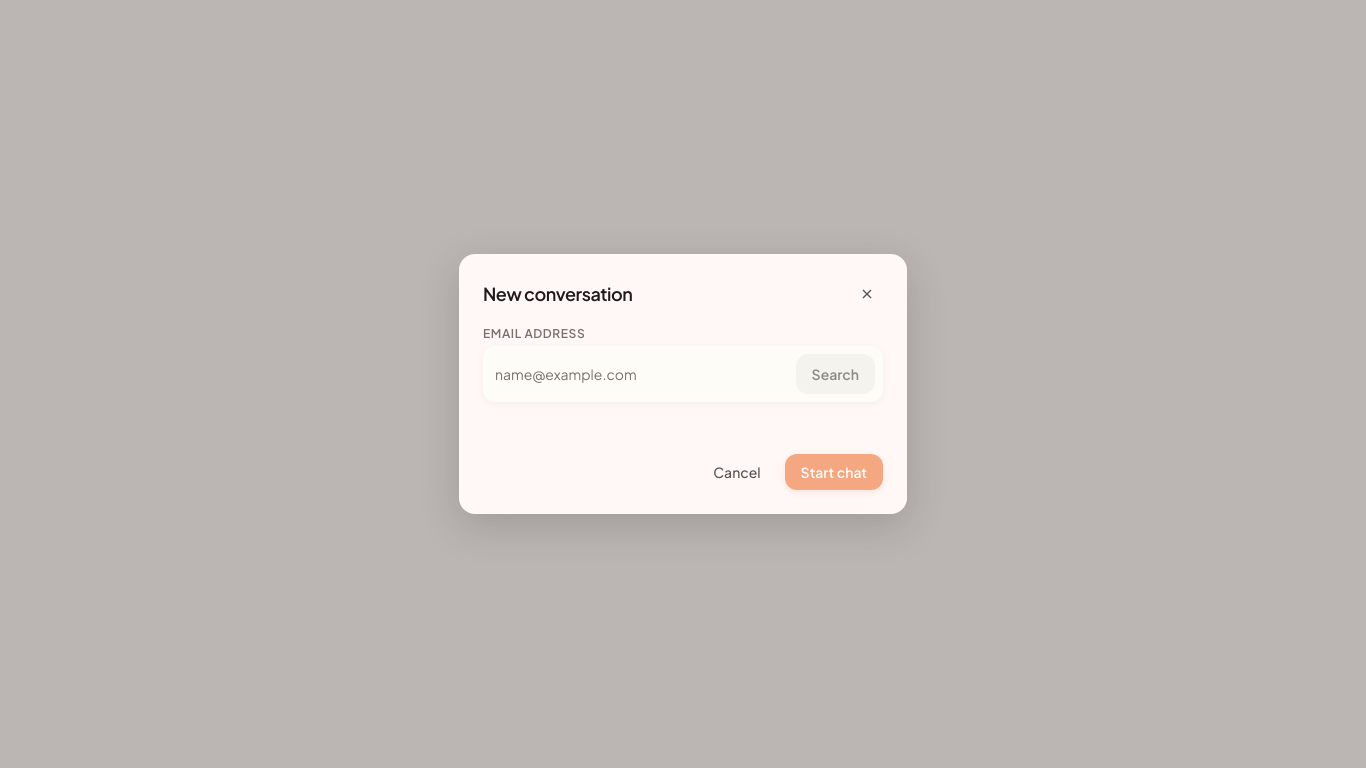
диалог создания беседы: состояние одно, и оно наблюдаемо › 429 показан ожиданием с числом из Retry-After, а не «никого нет»
Type "maria@example.com" into the field labelled "Email address" at x=639, y=374, box [491, 356, 788, 392]
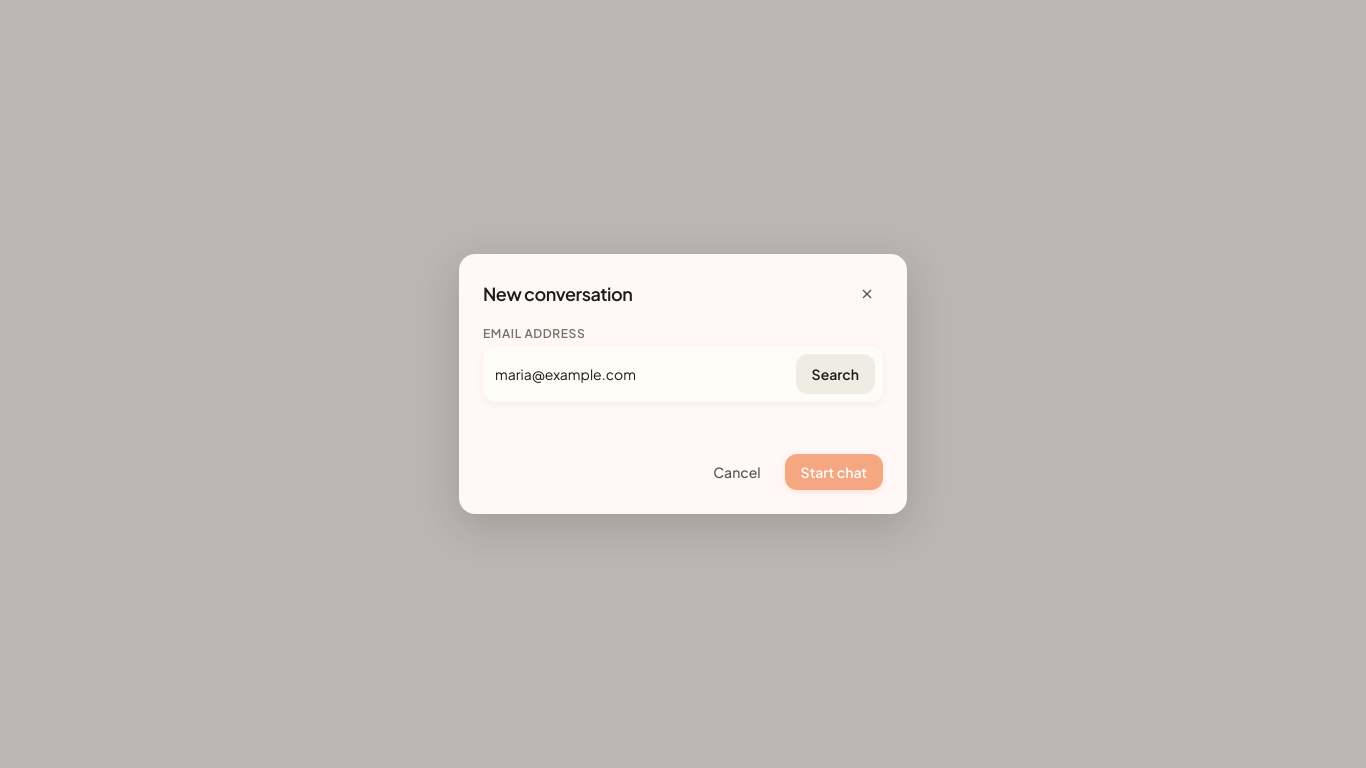
Click the button "Search" at x=835, y=374, box [796, 354, 875, 394]
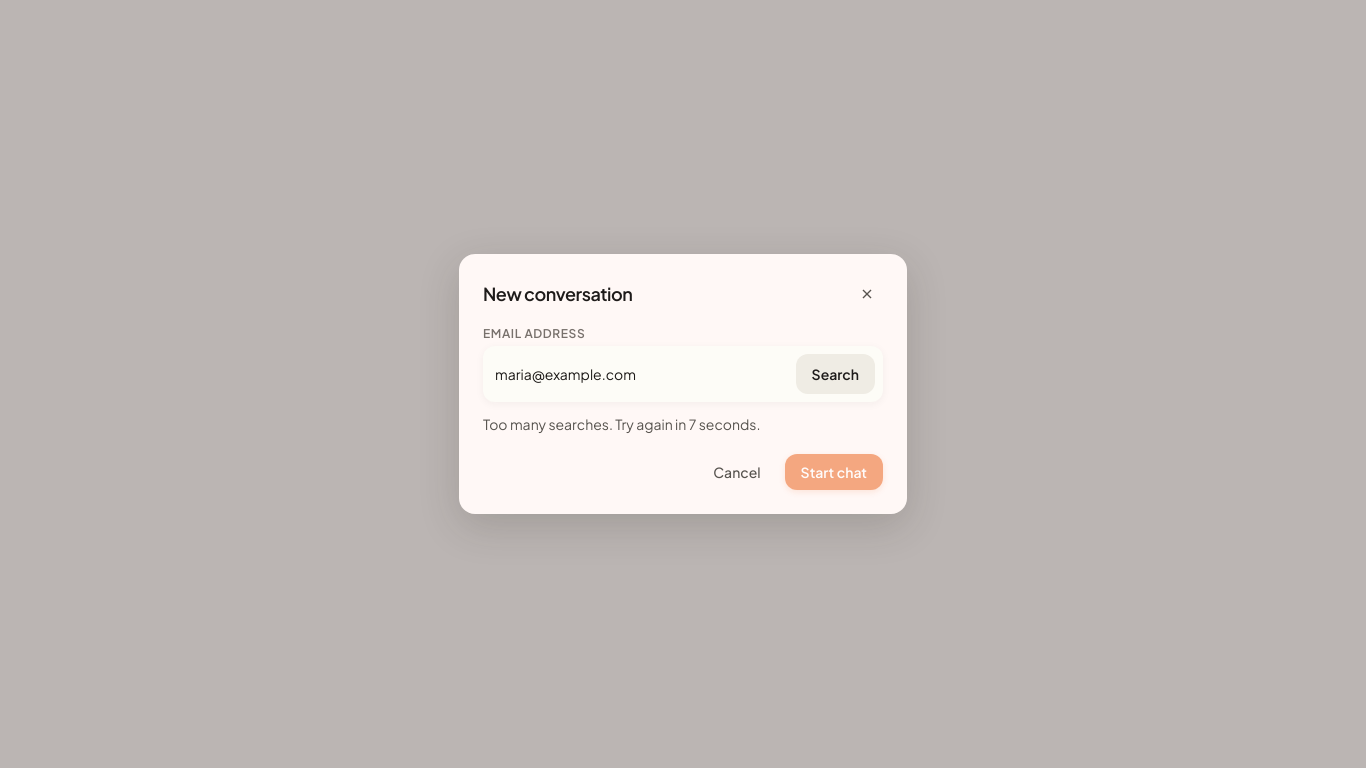
expect the button "Start chat" is disabled: met, box [785, 454, 883, 490]
expect the text "Too many searches. Try again in 7 seconds." is shown: met, box [483, 415, 760, 433]
